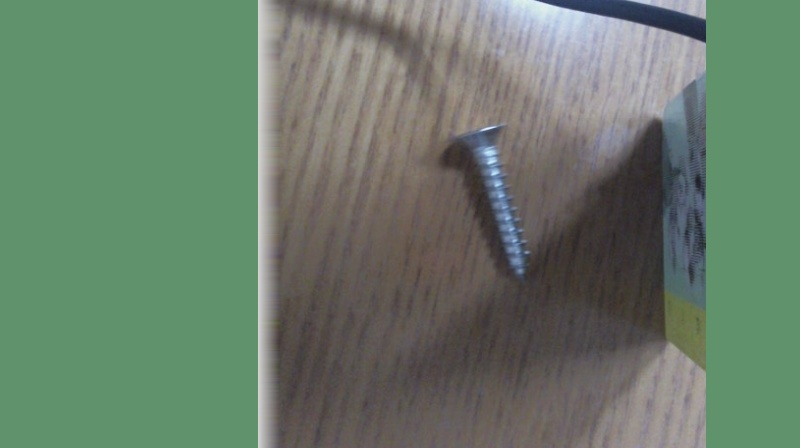S001: (450, 117, 537, 289)
